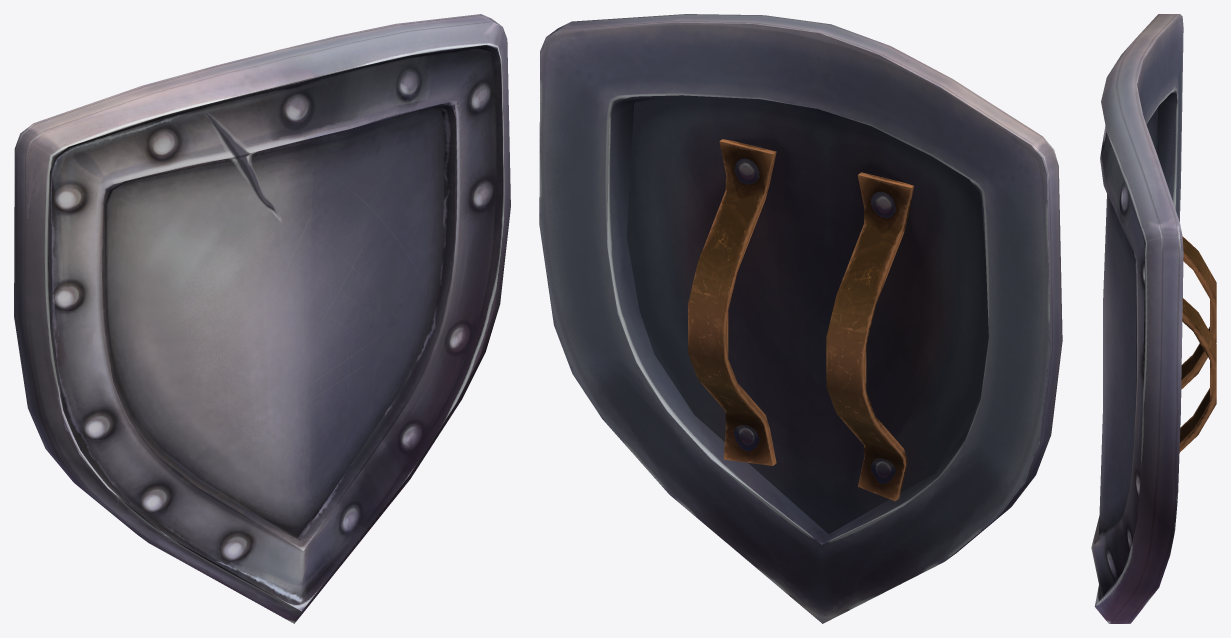
The model's file is 059_a_tower_shield.fbx.
The picture shows the model from 3 angles, left to right: view 1: azimuth 30°, elevation 25°; view 2: azimuth 150°, elevation 25°; view 3: azimuth 270°, elevation 25°; orthographic projection. The views are drawn at different scales.
Visible parts, largest first — view 1: 059_a_tower_shield; view 2: 059_a_tower_shield; view 3: 059_a_tower_shield.
Boxes of the visible parts, bbox=[...] form: 059_a_tower_shield: bbox=[14, 14, 510, 623]; 059_a_tower_shield: bbox=[539, 14, 1062, 623]; 059_a_tower_shield: bbox=[1091, 14, 1216, 623].
Size of the model in its own units: 63.08 by 69.97 by 14.75.
